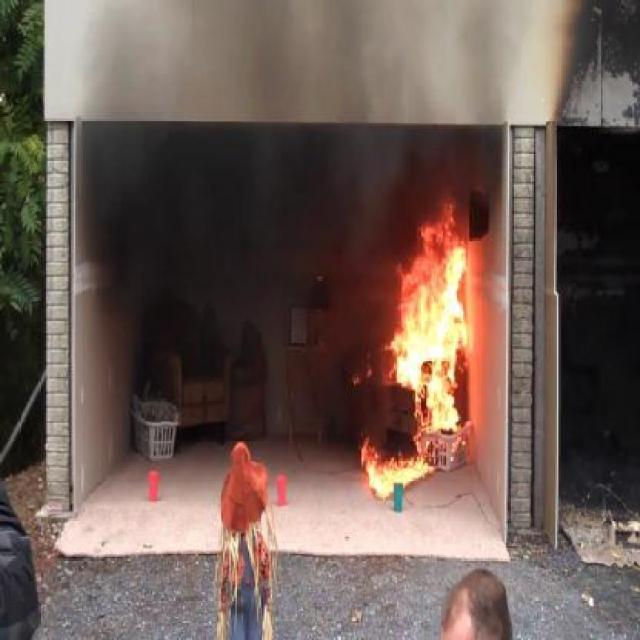fire: (356, 240, 474, 476)
smoke: (63, 8, 343, 430)
